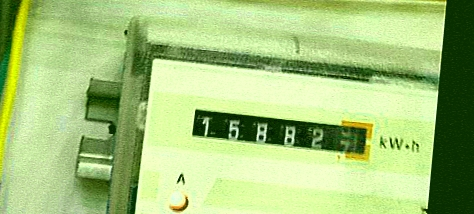1: (196, 113, 212, 136)
2: (307, 125, 325, 150)
5: (224, 115, 240, 141)
7: (336, 135, 350, 153)
8: (280, 122, 296, 148), (252, 120, 267, 144)
screen: (180, 97, 381, 170)
